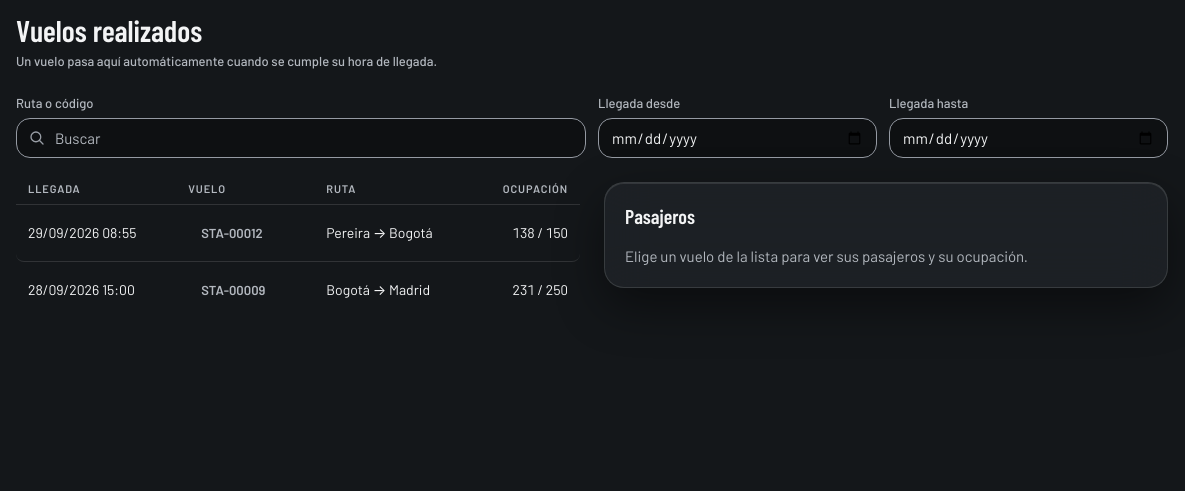
it: S12 · Vuelos realizados (HU-18) › al elegir un vuelo muestra sus pasajeros con su clase y su silla, y la ocupación
The image size is (1185, 491).
Expected: the row "29/09/2026 08:55 STA-00012 Pereira → Bogotá 138 / 150" is shown, x1=16 y1=205 x2=580 y2=262
Expected: the text "Elige un vuelo de la lista" is shown, x1=625 y1=247 x2=1028 y2=265
What coordinates should you click on to do the following:
click the button with aria-label "Ver pasajeros de STA-00012"
I would click on:
 (232, 233)
Its box is x1=188 y1=217 x2=276 y2=249.
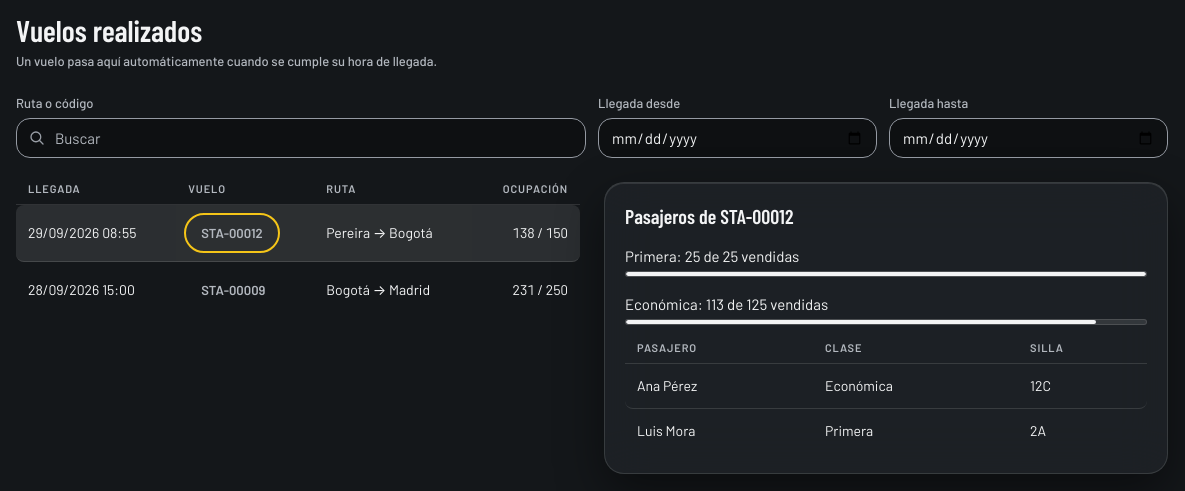
Expected: the heading "Pasajeros de STA-00012" is shown, x1=625 y1=203 x2=793 y2=229
Expected: the text "Primera: 25 de 25 vendidas" is shown, x1=625 y1=247 x2=799 y2=265
Expected: the text "Económica: 113 de 125 vendidas" is shown, x1=625 y1=295 x2=828 y2=313
